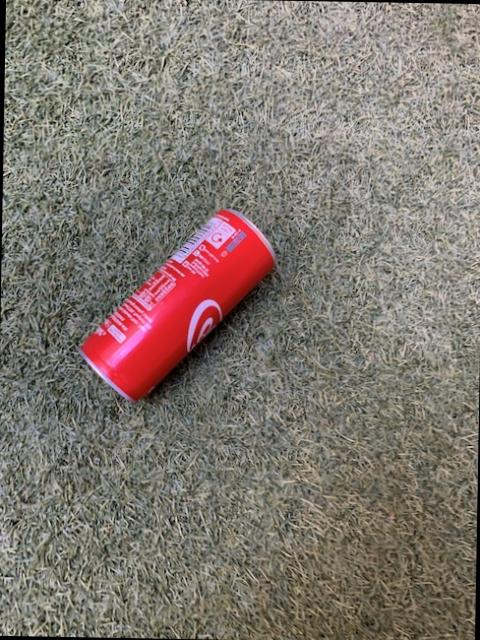metal: (81, 208, 275, 400)
